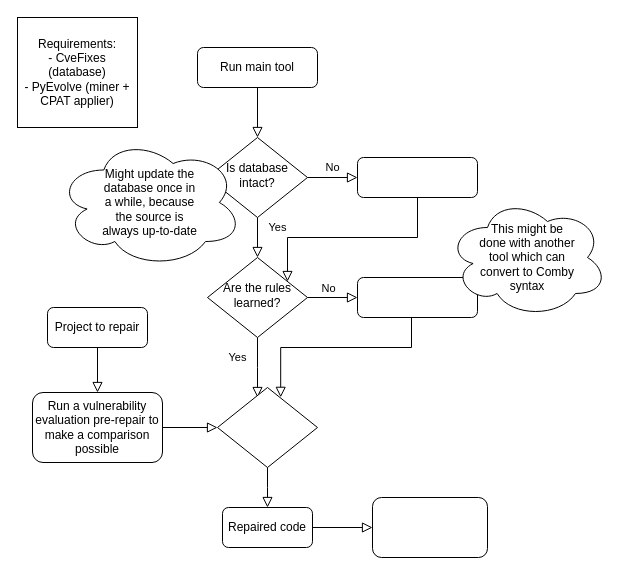
Image size: 625x575. Some labels were removed from this diagram. Each missing label, with the centre of its shape:
"Run a vulnerability evaluation, and compare to the pre-repair one" goes at (x=430, y=527).
"Run CveFixes to create database" goes at (x=417, y=177).
"Run mine+infer part" goes at (x=417, y=297).
"Use PyEvolve API" goes at (x=267, y=427).
